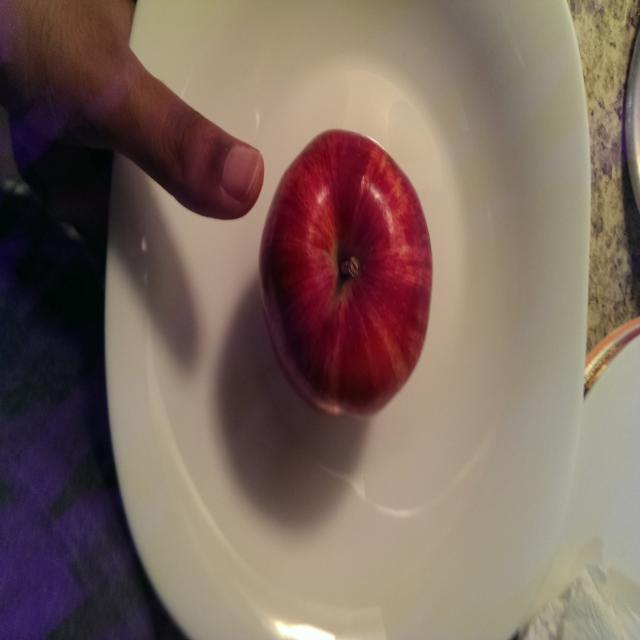apple: (259, 96, 448, 434)
